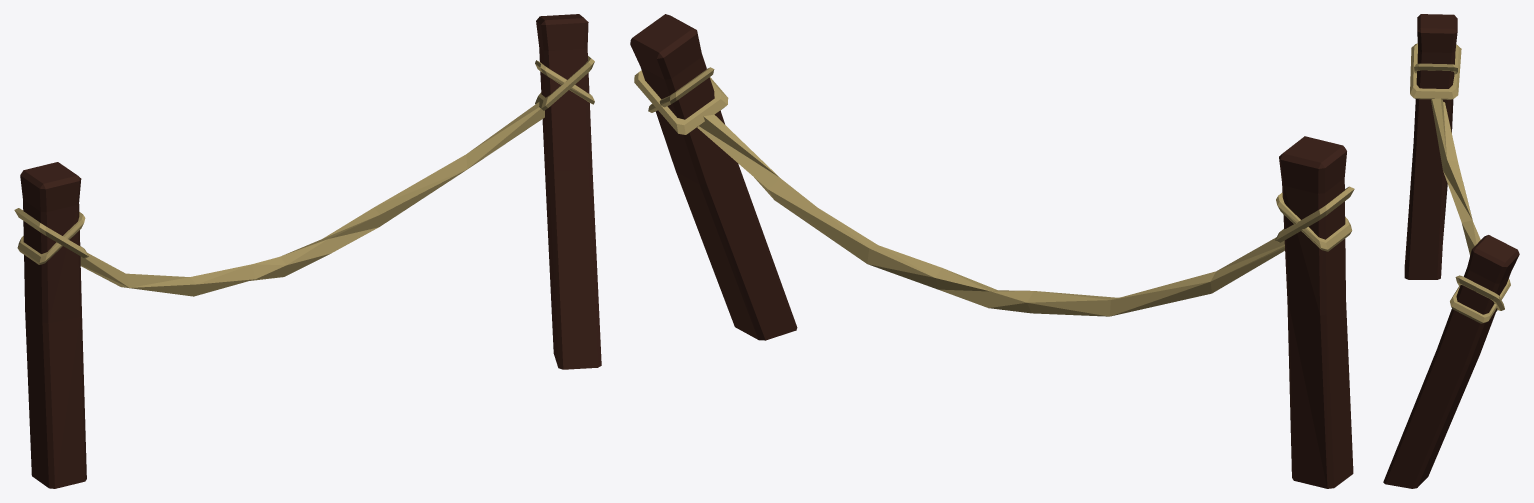
File: Fence_1_2 Asia.fbx
3 renders of one model, left to right at view 1: azimuth 30°, elevation 25°; view 2: azimuth 150°, elevation 25°; view 3: azimuth 270°, elevation 25°, orthographic. The views are drawn at different scales.
Visible parts, largest first — view 1: Fence_1_2; view 2: Fence_1_2; view 3: Fence_1_2.
Boxes of the visible parts, bbox=[...] form: Fence_1_2: bbox=[14, 14, 601, 488]; Fence_1_2: bbox=[630, 14, 1354, 488]; Fence_1_2: bbox=[1383, 14, 1519, 488].
Bounding box in the file's own units: 1.89 × 0.9112 × 0.4462.
